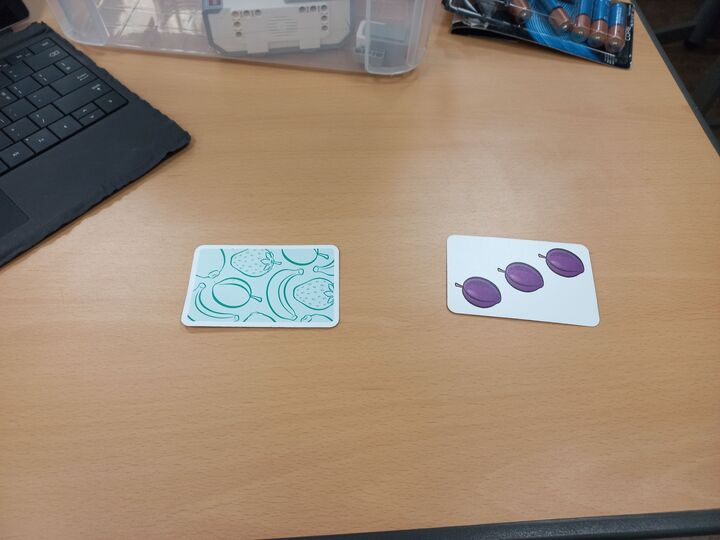plum3: (445, 233, 603, 329)
